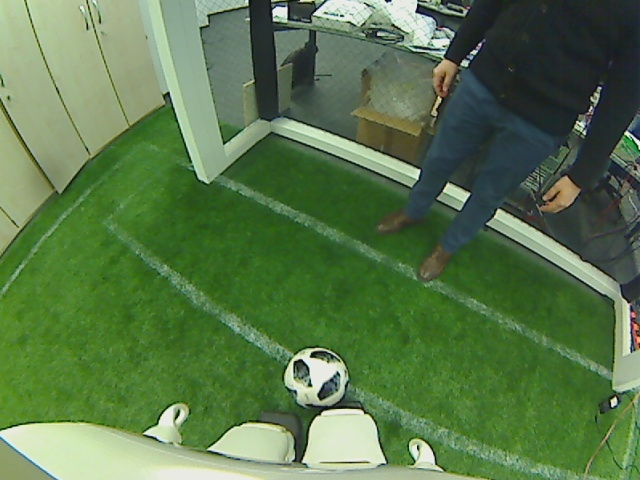ball: (282, 344, 351, 408)
